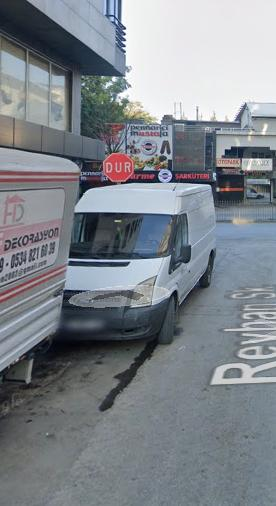stop: (104, 154, 132, 183)
